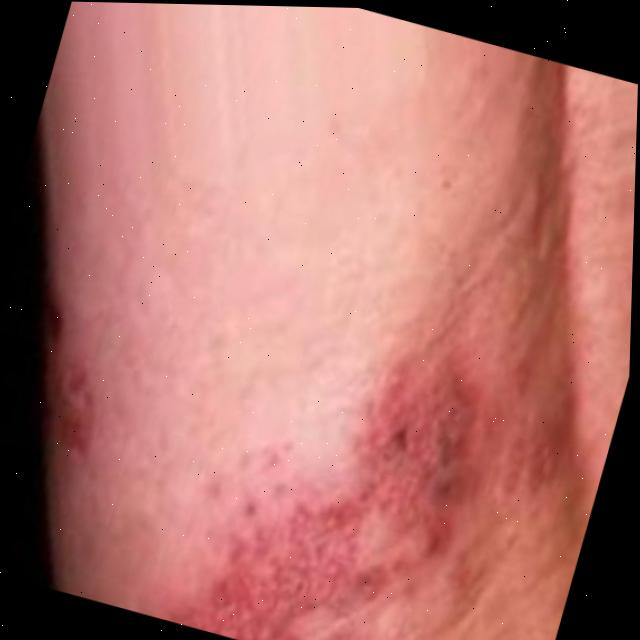Shingles: (179, 331, 492, 640)
